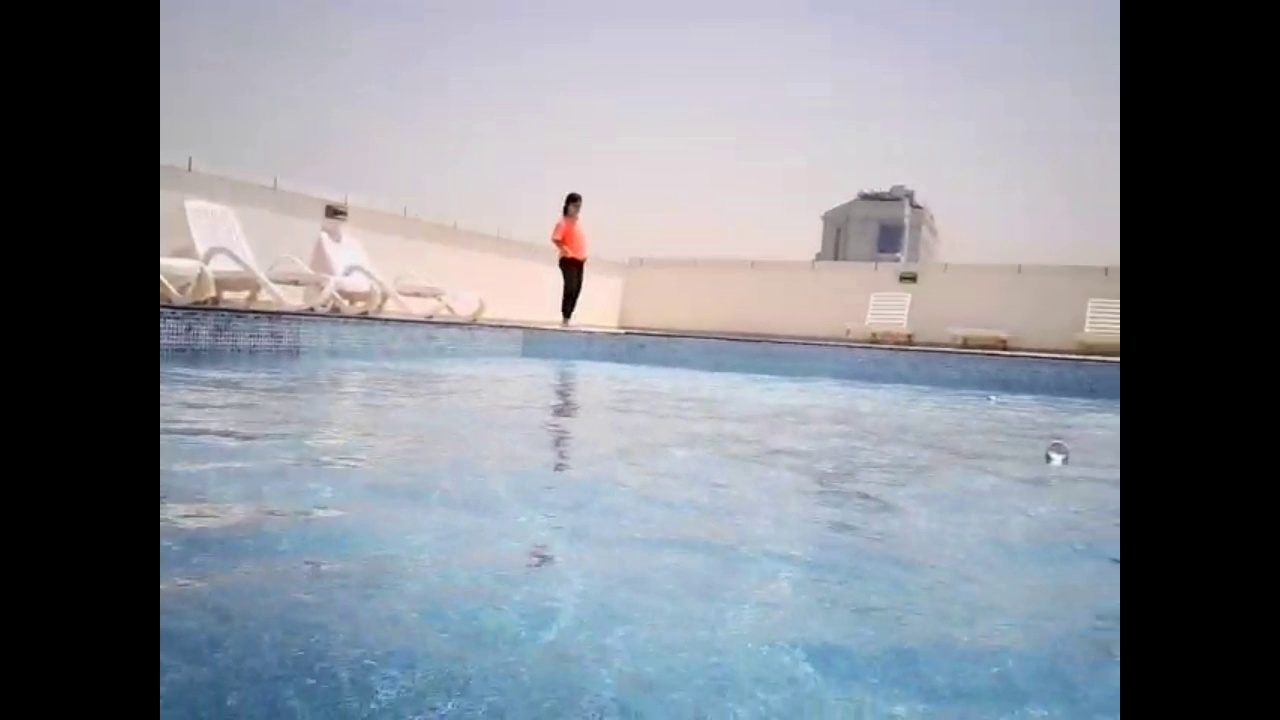debris: (1041, 435, 1074, 471), (983, 389, 1001, 409)
